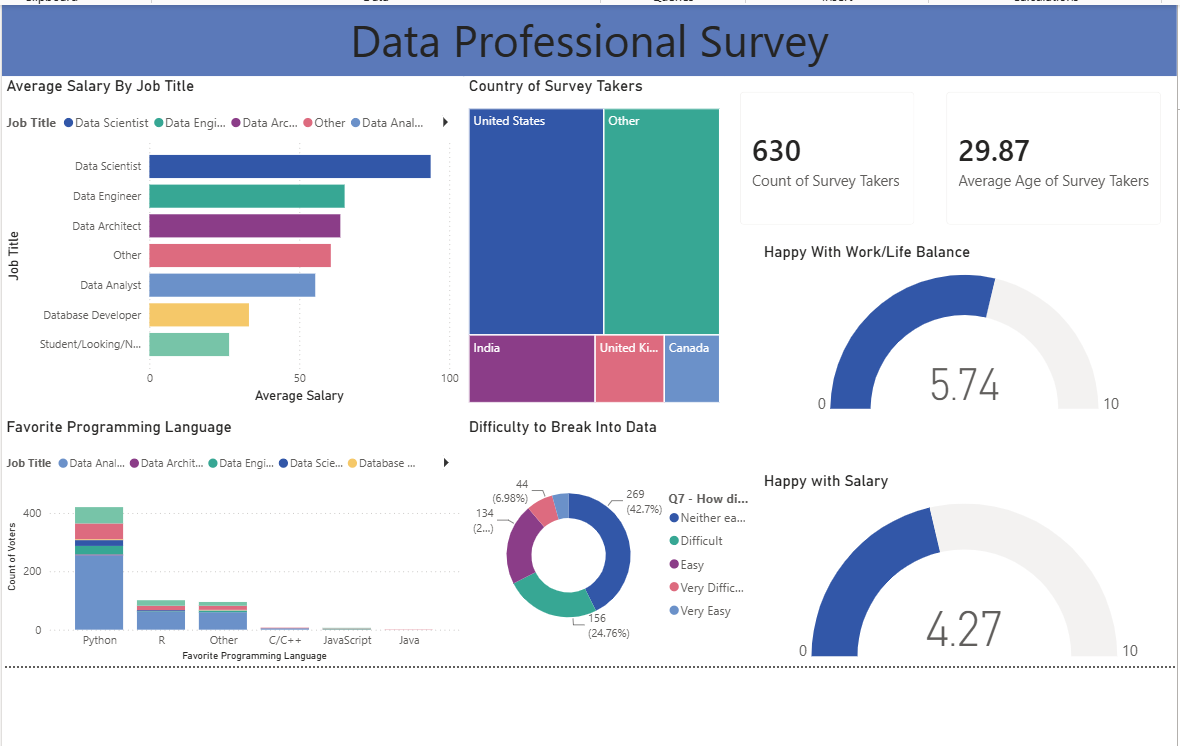

The page's visual inventory and layout, read from the dashboard file:
{"tool":"powerbi","page":{"name":"Page 1","canvas":[1280,720],"ordinal":0},"visuals":[{"type":"textbox","box":[0,0,1280.3,77.9],"z":0},{"type":"cardVisual","fields":{"Data":["CountNonNull(Data Professional Survey.Unique ID)"]},"box":[786.9,77.4,224.8,179.6],"z":1000},{"type":"cardVisual","fields":{"Data":["Avg(Data Professional Survey.Q10 - Current Age)"]},"box":[1011.7,77.4,268.6,179.6],"z":2000},{"type":"barChart","title":"Average Salary By Job Title","fields":{"Category":["Data Professional Survey.Q1 - Which Title Best Fits your Current Role?.1"],"Y":["Avg(Data Professional Survey.Average Salary)"],"Series":["Data Professional Survey.Q1 - Which Title Best Fits your Current Role?.1"]},"box":[0,77.9,502.6,361],"z":3000},{"type":"columnChart","title":"Favorite Programming Language","fields":{"Category":["Data Professional Survey.Q5 - Favorite Programming Language.1"],"Y":["CountNonNull(Data Professional Survey.Unique ID)"],"Series":["Data Professional Survey.Q1 - Which Title Best Fits your Current Role?.1"]},"box":[0,449,503,271],"z":4000},{"type":"treemap","title":"Country of Survey Takers","fields":{"Group":["Data Professional Survey.Q11 - Which Country do you live in?.1"],"Values":["CountNonNull(Data Professional Survey.Q11 - Which Country do you live in?.1)"]},"box":[503.7,77.4,283.2,360.6],"z":4001},{"type":"gauge","title":"Happy With Work/Life Balance","fields":{"Y":["Avg(Data Professional Survey.Q6 - How Happy are you in your Current Position with the following? (Work/Life Balance))"],"MinValue":["Min(Data Professional Survey.Q6 - How Happy are you in your Current Position with the following? (Work/Life Balance))"],"MaxValue":["Max(Data Professional Survey.Q6 - How Happy are you in your Current Position with the following? (Work/Life Balance))1"]},"box":[824.8,258.4,455.5,191.2],"z":4002},{"type":"gauge","title":"Happy with Salary","fields":{"Y":["Avg(Data Professional Survey.Q6 - How Happy are you in your Current Position with the following? (Salary))"],"MinValue":["Min(Data Professional Survey.Q6 - How Happy are you in your Current Position with the following? (Salary))"],"MaxValue":["Max(Data Professional Survey.Q6 - How Happy are you in your Current Position with the following? (Salary))"]},"box":[824.8,508,455.5,211.7],"z":4003},{"type":"donutChart","title":"Difficulty to Break Into Data","fields":{"Category":["Data Professional Survey.Q7 - How difficult was it for you to break into Data?"],"Y":["CountNonNull(Data Professional Survey.Q7 - How difficult was it for you to break into Data?)"]},"box":[503.7,449.6,321.2,270.1],"z":4004}]}

Visuals, with their boxes on the page's 1280x720 design canvas (x1, y1, x2, y2). These are canvas units, not pixel positions in the 1180x746 screenshot, which may show the page scaled, cropped or inside an application window:
textbox: 0,0,1280,78
cardVisual - CountNonNull(Data Professional Survey.Unique ID): 787,77,1012,257
cardVisual - Avg(Data Professional Survey.Q10 - Current Age): 1012,77,1280,257
"Average Salary By Job Title" barChart: 0,78,503,439
"Favorite Programming Language" columnChart: 0,449,503,720
"Country of Survey Takers" treemap: 504,77,787,438
"Happy With Work/Life Balance" gauge: 825,258,1280,450
"Happy with Salary" gauge: 825,508,1280,720
"Difficulty to Break Into Data" donutChart: 504,450,825,720
